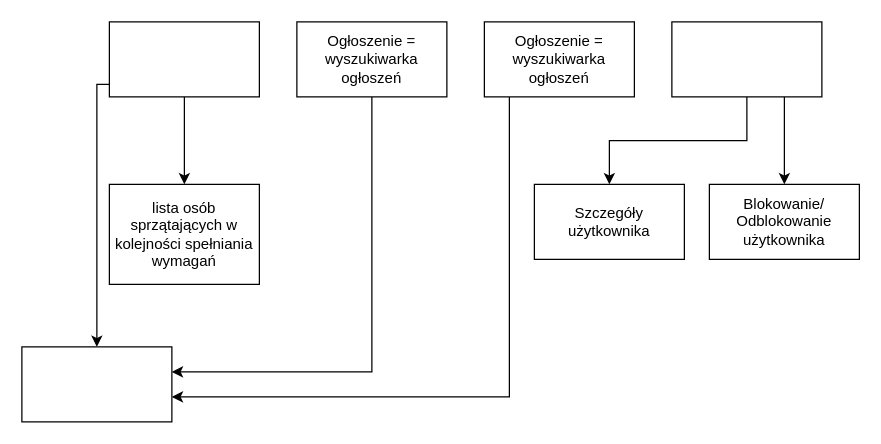
This 881x444 diagram has some shape labels left out. Here are the shapes that lost their labels. From the top down, the box of each, then its label:
(108, 21, 259, 97): Pulpit = lista nowych, aktywnych ogłoszeń
(671, 21, 822, 97): Użytkownicy = wyszukiwarka użytkowników
(21, 346, 172, 422): Szczegóły ogłoszenia
